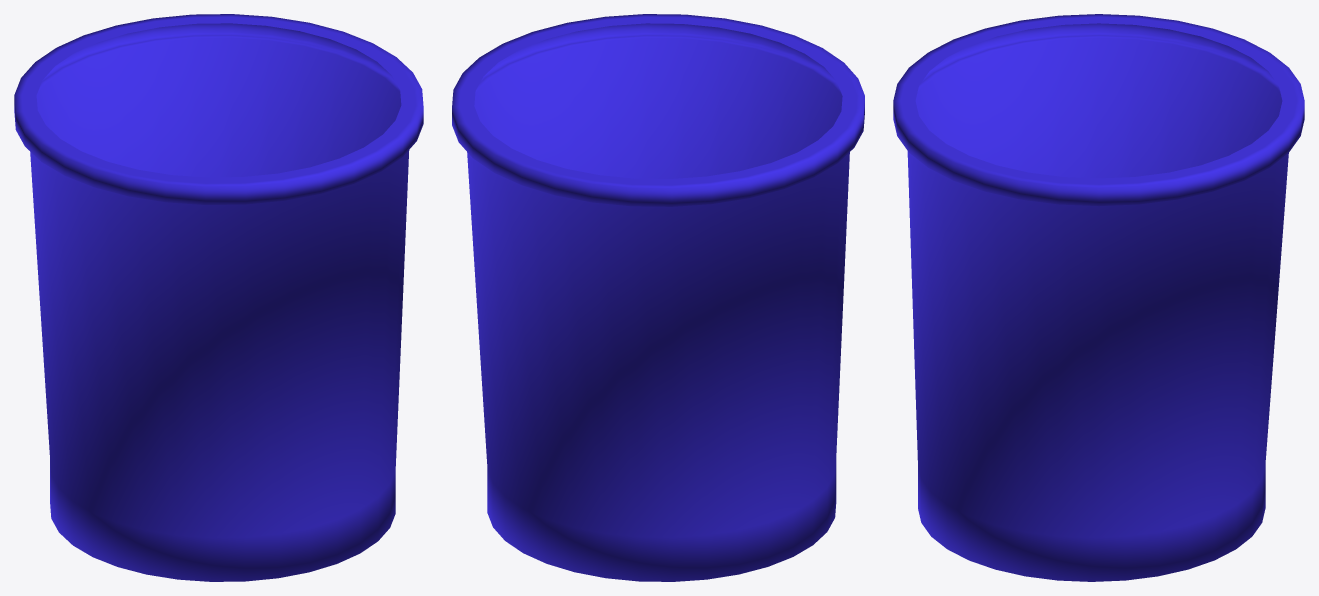
File: Papelera.glb
3 views of the same model, side by side, from view 1: azimuth 30°, elevation 25°; view 2: azimuth 150°, elevation 25°; view 3: azimuth 270°, elevation 25° (orthographic).
Parts seen in each view (by area): view 1: Escritorio_Papelera; view 2: Escritorio_Papelera; view 3: Escritorio_Papelera.
Boxes of the visible parts, <box> form: Escritorio_Papelera: <box>14,14,423,581</box>; Escritorio_Papelera: <box>452,14,864,581</box>; Escritorio_Papelera: <box>893,14,1304,581</box>.
Bounding box in the file's own units: 0.3345 × 0.3655 × 0.3345.
